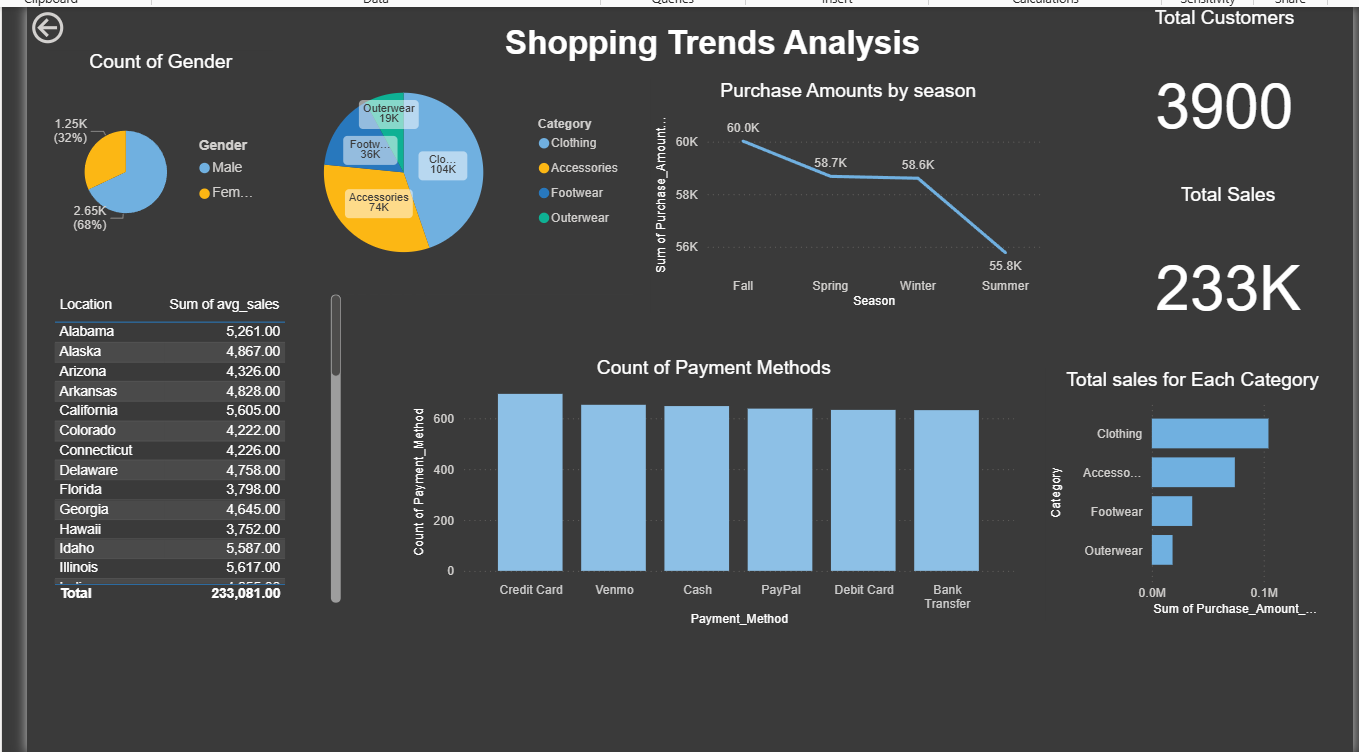

Layout of this report page (visuals, bound fields, positions):
{"tool":"powerbi","page":{"name":"Page 1","canvas":[1280,720],"ordinal":0},"visuals":[{"type":"columnChart","title":"Count of Payment Methods","fields":{"Category":["Sheet1.Payment_Method"],"Y":["CountNonNull(Sheet1.Payment_Method)"]},"box":[368,337.8,589.9,264.2],"z":0},{"type":"actionButton","box":[0,0,100,40],"z":1000},{"type":"lineChart","title":"Purchase Amounts by season","fields":{"Category":["Sheet1.Season"],"Y":["Sum(Sheet1.Purchase_Amount_USD)"]},"box":[602,70,381.2,225.6],"z":2000},{"type":"pieChart","fields":{"Y":["Sum(Sheet1.Purchase_Amount_USD)"],"Category":["Sheet1.Category"]},"box":[229.2,42.2,355.9,235.3],"z":3000},{"type":"textbox","box":[237.7,12.1,848.1,47.1],"z":4000},{"type":"tableEx","fields":{"Values":["Sheet1.Location","Sum(Sheet1.avg_sales)"]},"box":[20.5,272.7,287.1,307.6],"z":5000},{"type":"card","title":"Total Sales","fields":{"Values":["Sum(Sheet1.Purchase_Amount_USD)"]},"box":[1038.7,170.1,241.3,171.3],"z":7000},{"type":"card","title":"Total Customers","fields":{"Values":["CountNonNull(Sheet1.Customer_ID)"]},"box":[1044.8,0,222,160.5],"z":7001},{"type":"barChart","title":"Total sales for Each Category","fields":{"Category":["Sheet1.Category"],"Y":["Sum(Sheet1.Purchase_Amount_USD)"]},"box":[983.2,348.7,283.5,243.7],"z":7002},{"type":"pieChart","title":"Count of Gender ","fields":{"Y":["CountNonNull(Sheet1.Gender)"],"Category":["Sheet1.Gender"]},"box":[20.5,42.2,217.2,213.5],"z":7003}]}

Visuals, with their boxes on the page's 1280x720 design canvas (x1, y1, x2, y2). These are canvas units, not pixel positions in the 1359x752 screenshot, which may show the page scaled, cropped or inside an application window:
"Count of Payment Methods" columnChart: Rect(368, 338, 958, 602)
actionButton: Rect(0, 0, 100, 40)
"Purchase Amounts by season" lineChart: Rect(602, 70, 983, 296)
pieChart - Sum(Sheet1.Purchase_Amount_USD) x Sheet1.Category: Rect(229, 42, 585, 278)
textbox: Rect(238, 12, 1086, 59)
tableEx - Sheet1.Location x Sum(Sheet1.avg_sales): Rect(20, 273, 308, 580)
"Total Sales" card: Rect(1039, 170, 1280, 341)
"Total Customers" card: Rect(1045, 0, 1267, 160)
"Total sales for Each Category" barChart: Rect(983, 349, 1267, 592)
"Count of Gender " pieChart: Rect(20, 42, 238, 256)
